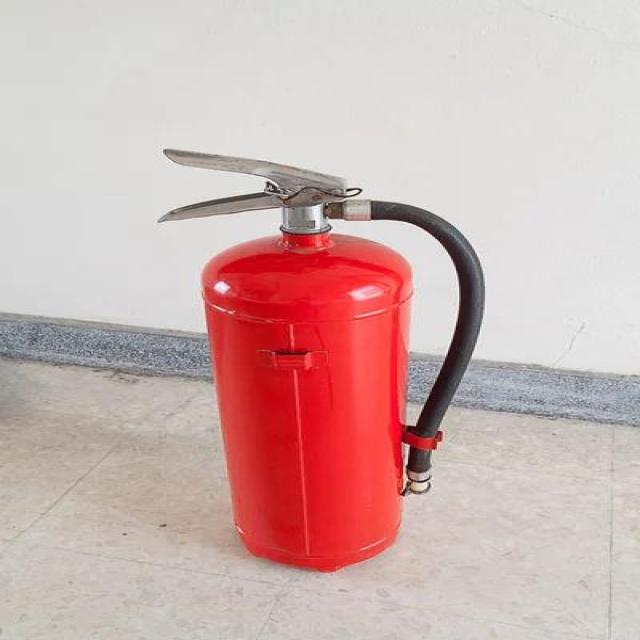fire_extinguisher: (149, 141, 496, 575)
